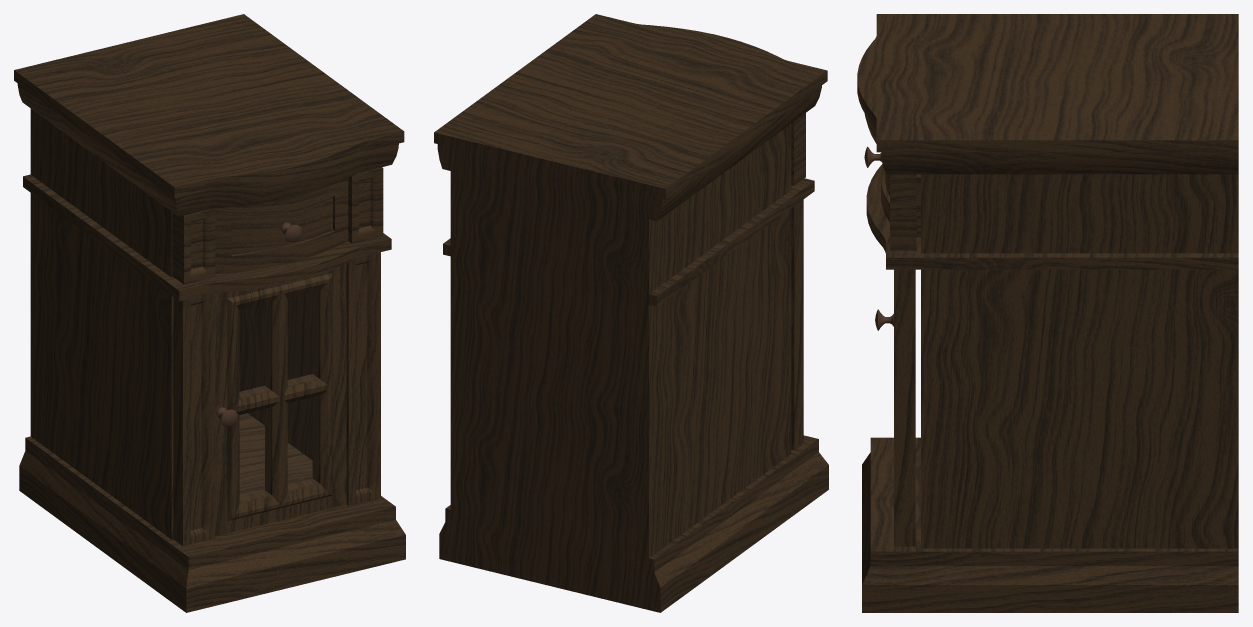
Rendered from side_table.glb.
The picture shows the model from 3 angles, left to right: view 1: azimuth 30°, elevation 25°; view 2: azimuth 150°, elevation 25°; view 3: azimuth 270°, elevation 25°; orthographic projection. The views are drawn at different scales.
Visible parts, largest first — view 1: polySurface3687; view 2: polySurface3687; view 3: polySurface3687.
Boxes of the visible parts, x1=… form: polySurface3687: x1=14, y1=14, x2=405, y2=612; polySurface3687: x1=434, y1=14, x2=828, y2=612; polySurface3687: x1=857, y1=14, x2=1238, y2=612.
Bounding box in the file's own units: 14 × 24.56 × 17.84.
Materials: 2 (2 with a texture image).
